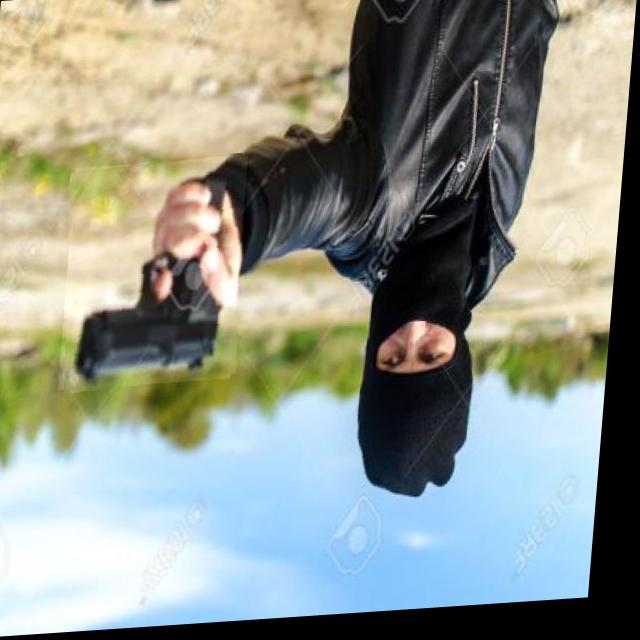handgun: (61, 157, 253, 392)
